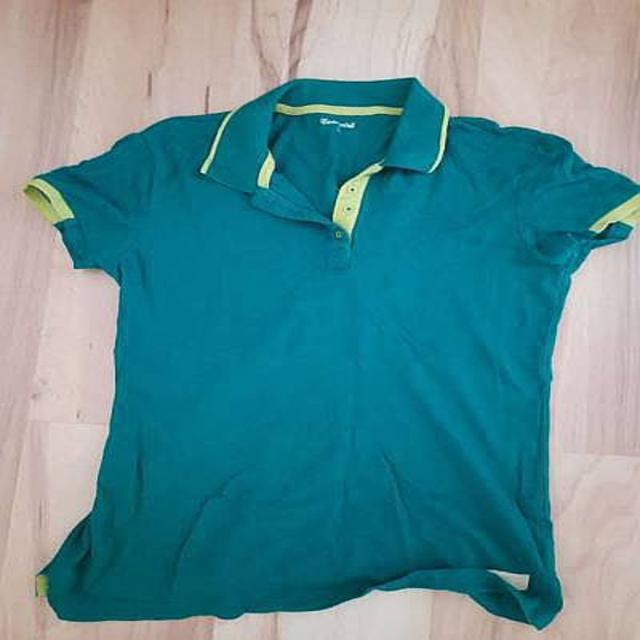T_SHIRT: (14, 67, 640, 640)
